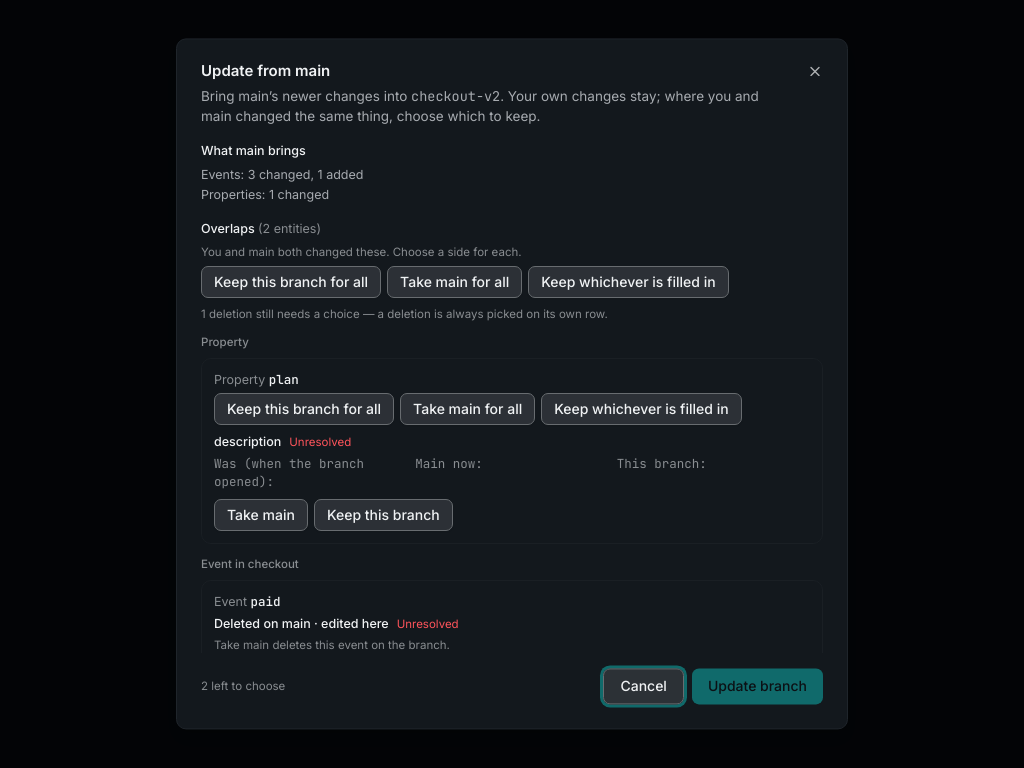
UpdateFromMainDialog › leaves a deletion to pick by hand, and says so
This screenshot has width=1024, height=768.
Check: the text "2 left to choose" is shown, box [201, 679, 285, 695]
Click the button "Keep this branch for all" below "plan" at (304, 409), box [214, 393, 394, 425]
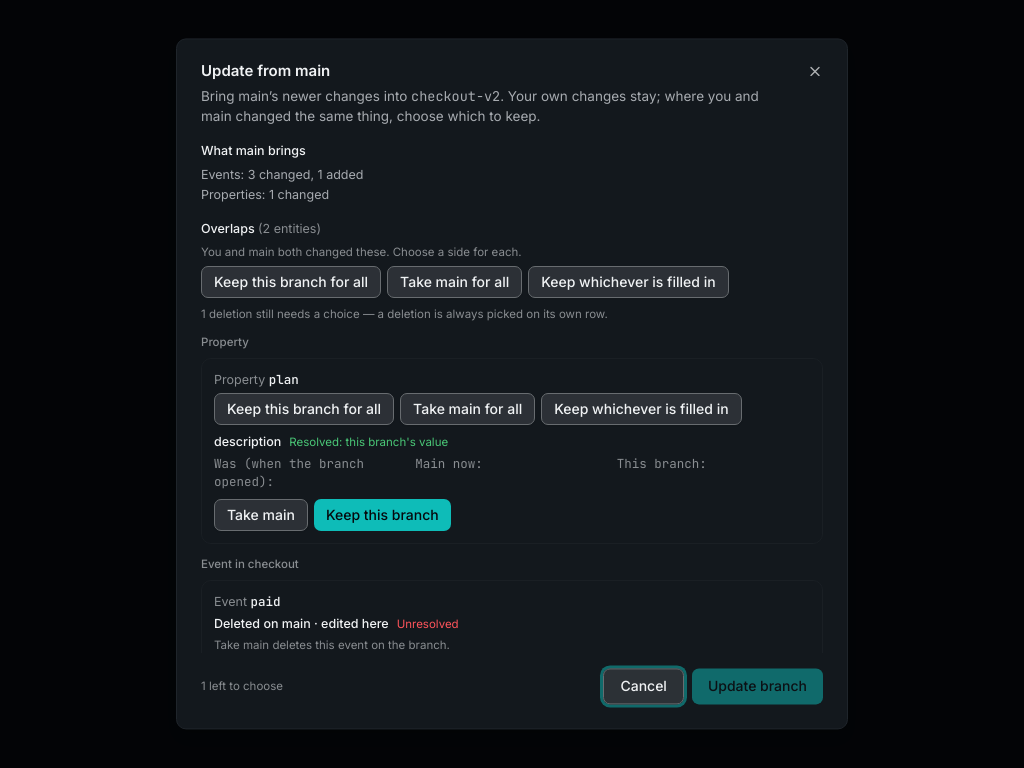
Check: the text with test id "deletions-left" shows "1 deletion still needs a choice", box [201, 307, 608, 321]
Check: the text "1 left to choose" is shown, box [201, 679, 283, 695]
